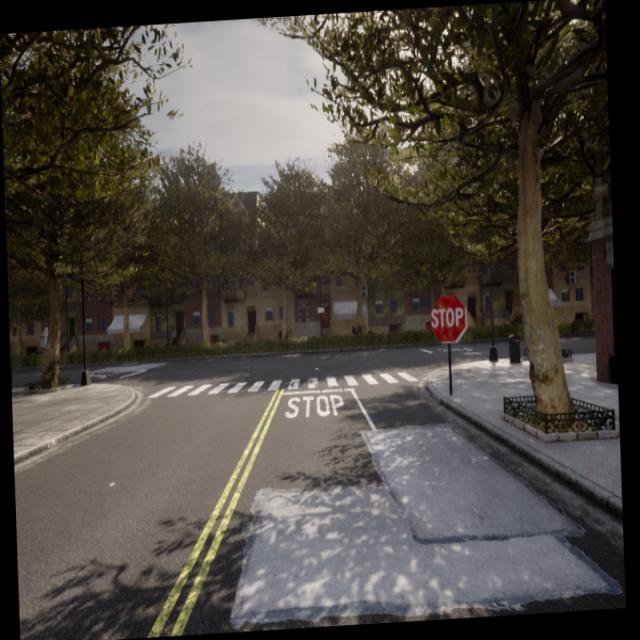stop sign: (427, 291, 469, 345), (430, 304, 464, 329)
